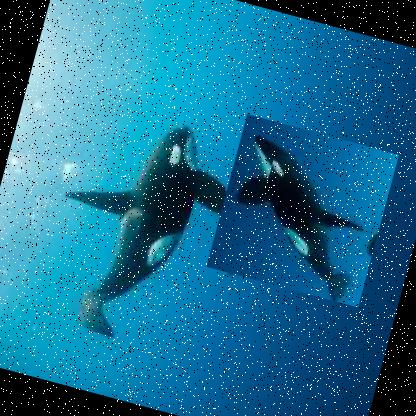killer_whale: (15, 87, 233, 376), (204, 113, 398, 307)
